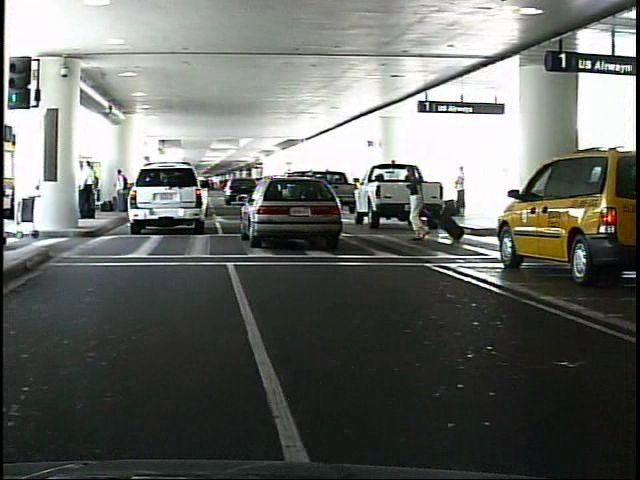person: (408, 164, 432, 245), (83, 159, 98, 218), (119, 166, 134, 219), (456, 162, 469, 211)
